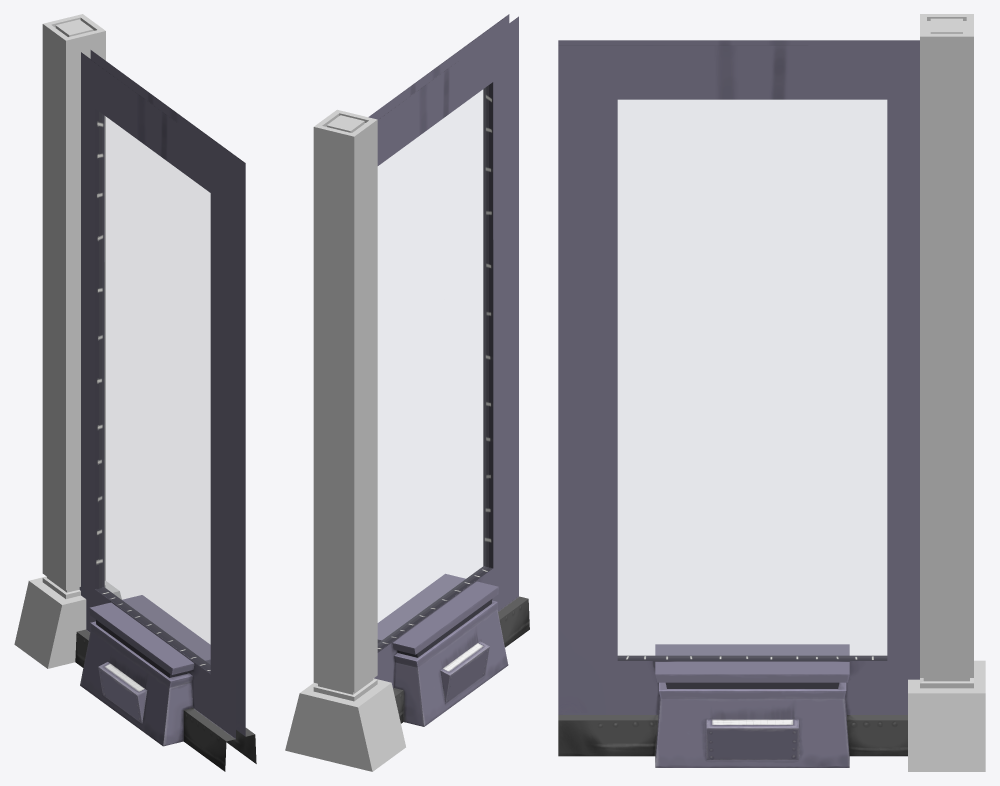
The model's file is wallwindow01.fbx.
The picture shows the model from 3 angles, left to right: view 1: azimuth 30°, elevation 25°; view 2: azimuth 150°, elevation 25°; view 3: azimuth 270°, elevation 25°; orthographic projection. The views are drawn at different scales.
Parts seen in each view (by area): view 1: wall, Plane, pillar; view 2: Plane, pillar, wall; view 3: Plane, wall, pillar.
Boxes of the visible parts, x1,y1,x2,y2 form: wall: (75,50,256,771); Plane: (102,114,209,666); pillar: (14,14,121,668); Plane: (378,88,485,645); pillar: (285,109,405,771); wall: (368,14,529,726); Plane: (618,100,886,657); wall: (558,40,919,767); pillar: (908,14,985,771).
Bounding box in the file's own units: 0.6 × 4.1 × 2.2.
Materials: 2 (1 with a texture image).
